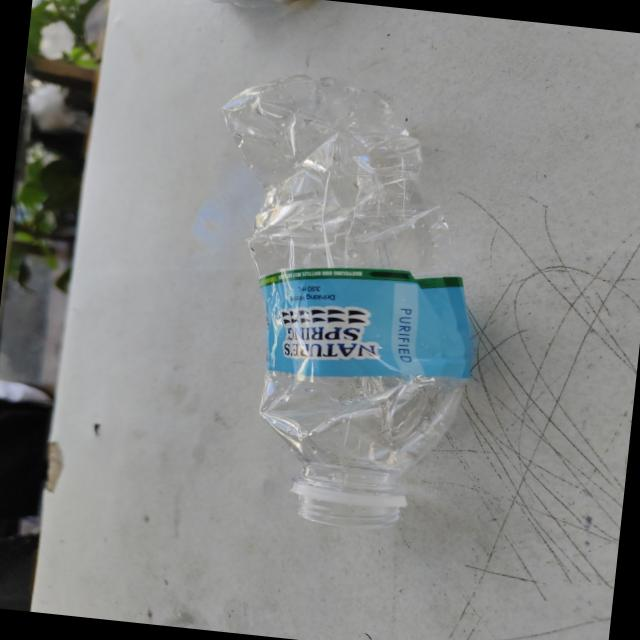Bottle: (223, 74, 474, 527)
